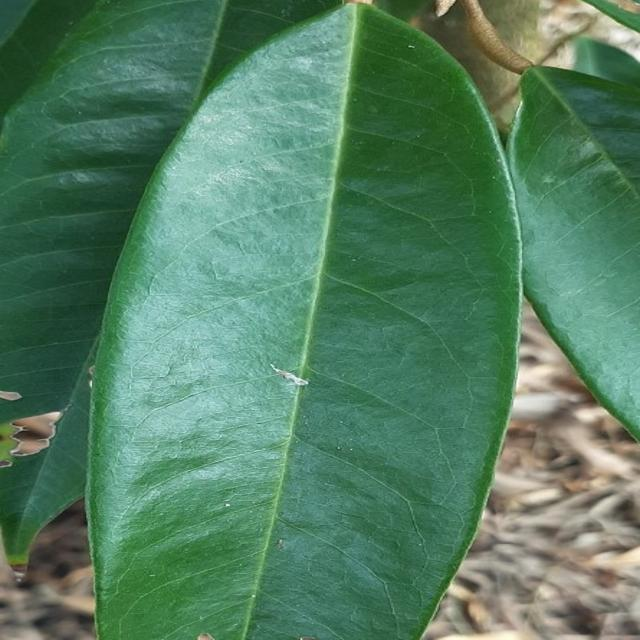No Disease: (80, 4, 514, 634)
